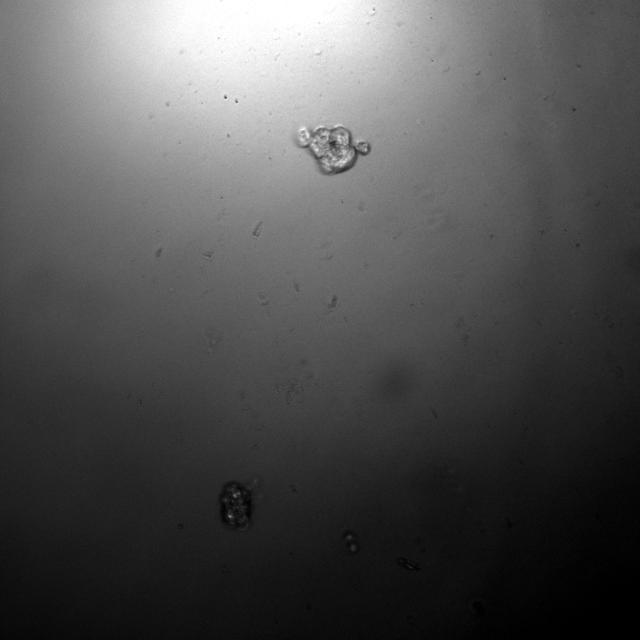organoid: (297, 125, 370, 174), (219, 481, 252, 530)
